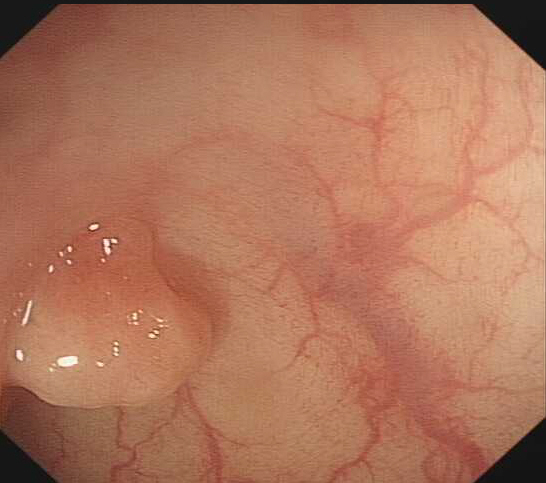adenoma: (11, 217, 216, 412)
